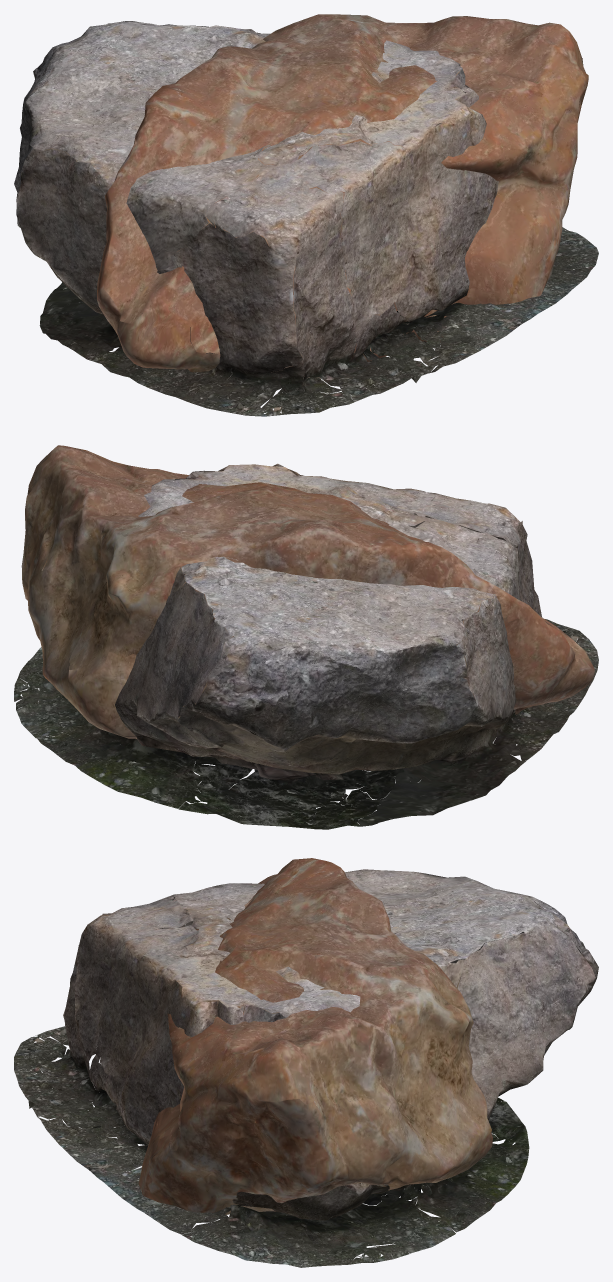
Rendered from zoo_rocks.glb.
The picture shows the model from 3 angles, top to bottom: view 1: azimuth 30°, elevation 25°; view 2: azimuth 150°, elevation 25°; view 3: azimuth 270°, elevation 25°; orthographic projection. The views are drawn at different scales.
Parts seen in each view (by area): view 1: rockB, rockA; view 2: rockB, rockA; view 3: rockB, rockA.
Part boxes in pixels (bbox=[...]): rockB: bbox=[14, 21, 598, 416]; rockA: bbox=[97, 14, 588, 378]; rockB: bbox=[14, 463, 598, 829]; rockA: bbox=[21, 445, 594, 738]; rockB: bbox=[14, 869, 598, 1267]; rockA: bbox=[138, 858, 492, 1214].
Size of the model in its own units: 1 by 0.452 by 0.9998.
2 materials, 2 textured.
